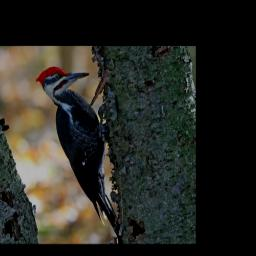Woodpecker: (35, 65, 121, 242)
